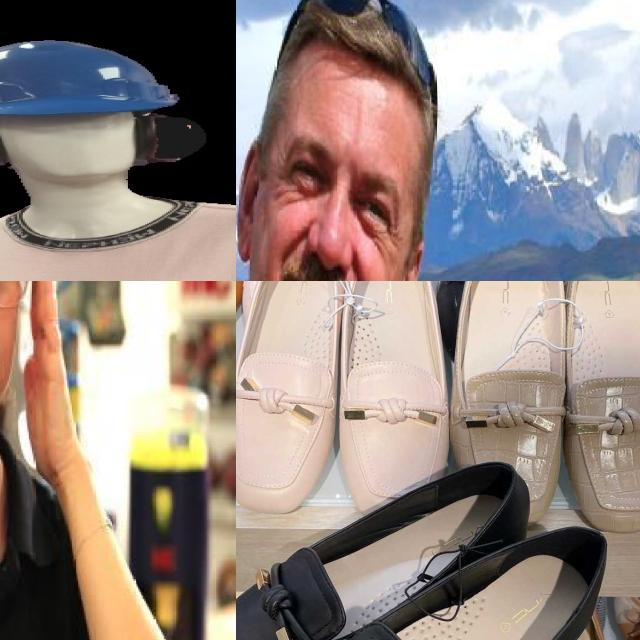Ear-protection: (0, 123, 236, 175)
Sandals: (236, 434, 627, 640), (236, 281, 460, 509), (451, 281, 640, 526)
face_nomask: (258, 129, 404, 281)
hand_noglove: (11, 281, 93, 497)
head_helmet: (0, 30, 236, 123)
head_nohelmet: (267, 0, 456, 104)
person: (0, 281, 122, 640)
